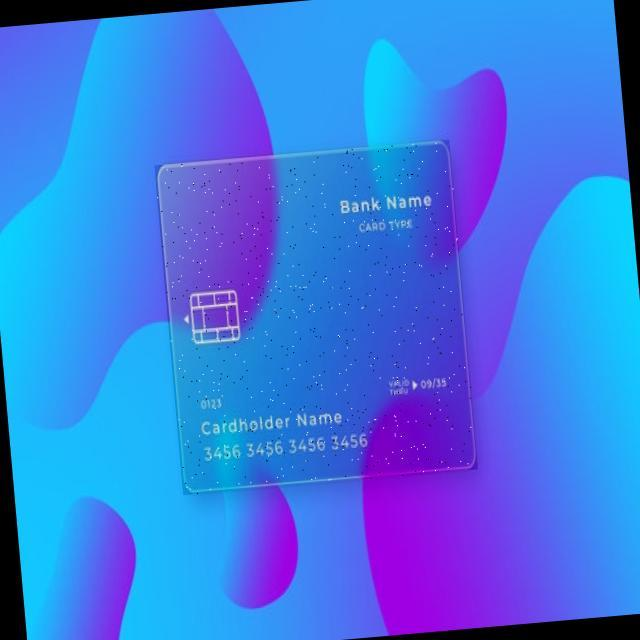payment_card: (155, 139, 477, 494)
